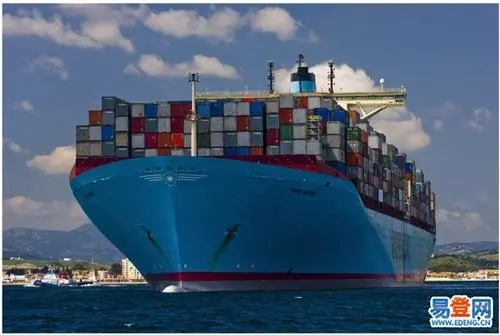Cargoship: (68, 53, 433, 293)
